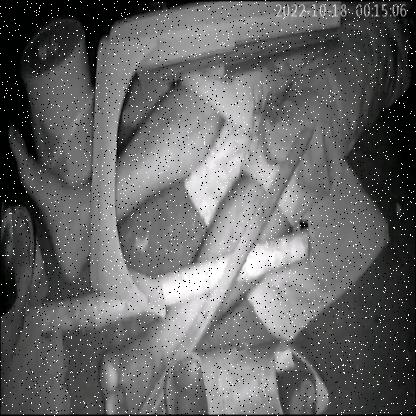leg: (100, 174, 293, 416), (4, 85, 228, 285)
